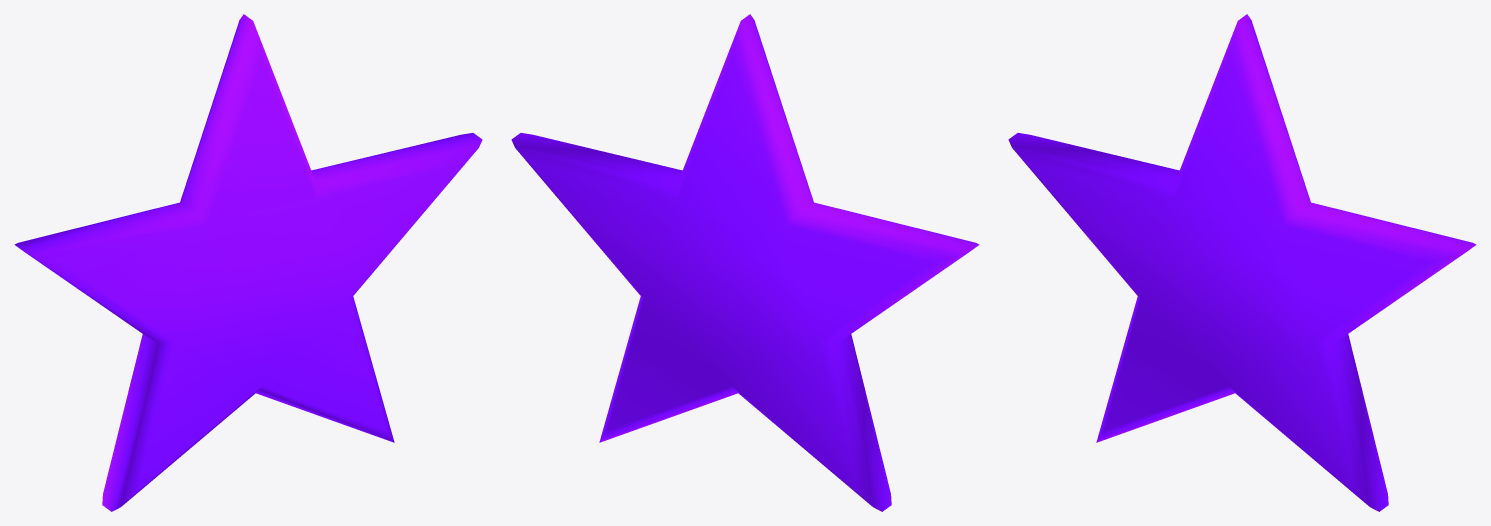
Rendered from IndicatorSpawnAreaPurple.glb.
3 views of the same model, side by side, from view 1: azimuth 30°, elevation 25°; view 2: azimuth 150°, elevation 25°; view 3: azimuth 330°, elevation 25° (orthographic).
Parts seen in each view (by area): view 1: IndicatorStarPurple; view 2: IndicatorStarPurple; view 3: IndicatorStarPurple.
Boxes of the visible parts, box(x1,y1,x2,y2) form: IndicatorStarPurple: box(14, 14, 482, 511); IndicatorStarPurple: box(511, 14, 979, 511); IndicatorStarPurple: box(1008, 14, 1476, 511).
Size of the model in its own units: 0.5617 by 0.5341 by 0.0567.
Materials: 1 (1 with a texture image).
